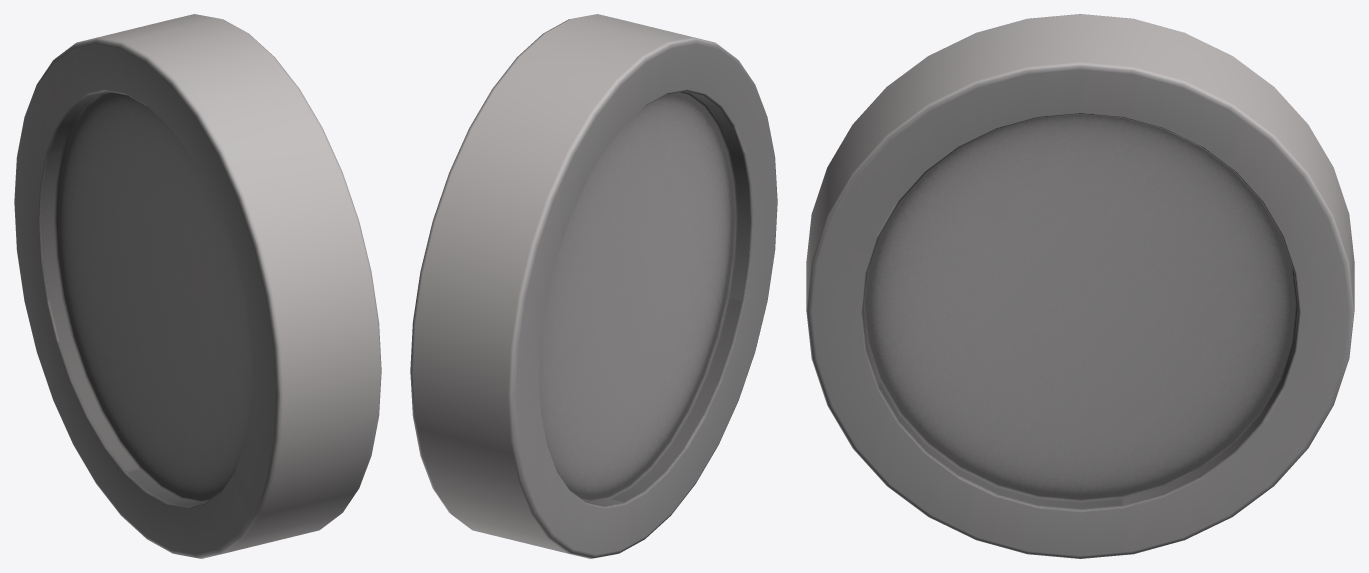
File: coin01.fbx
3 views of the same model, side by side, from view 1: azimuth 30°, elevation 25°; view 2: azimuth 150°, elevation 25°; view 3: azimuth 270°, elevation 25° (orthographic). The views are drawn at different scales.
Parts seen in each view (by area): view 1: coin-lp.01; view 2: coin-lp.01; view 3: coin-lp.01.
Boxes of the visible parts, x1,y1,x2,y2 form: coin-lp.01: (14,14,381,558); coin-lp.01: (410,14,777,558); coin-lp.01: (806,14,1354,558).
Bounding box in the file's own units: 0.0607 × 0.2673 × 0.2673.
1 material, 1 textured.
